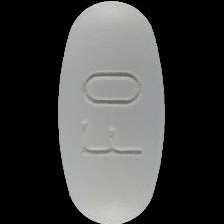54868-5203: (0, 0, 224, 224)
